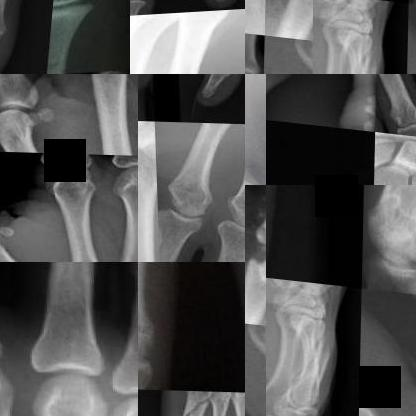fracture: (304, 324, 339, 367), (245, 245, 266, 306), (351, 39, 387, 73), (177, 390, 215, 415), (51, 46, 81, 73), (277, 0, 313, 21), (360, 402, 415, 415)
